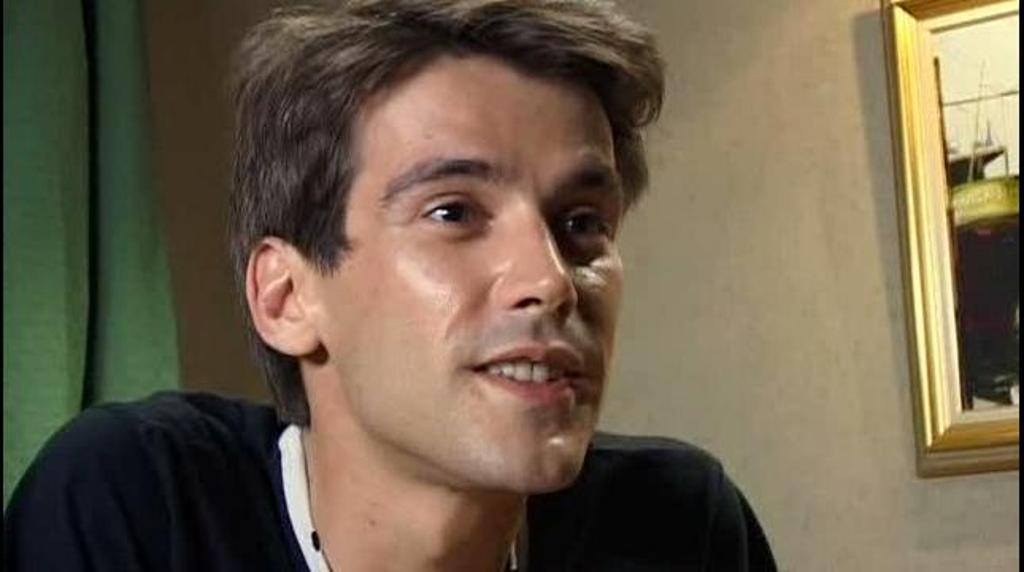face: (308, 60, 622, 490)
